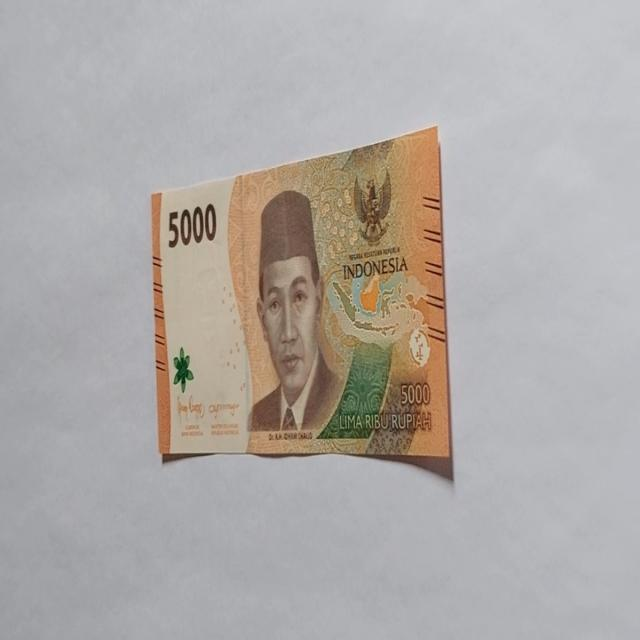lima ribu rupiah: (150, 127, 455, 484), (245, 188, 342, 436)
